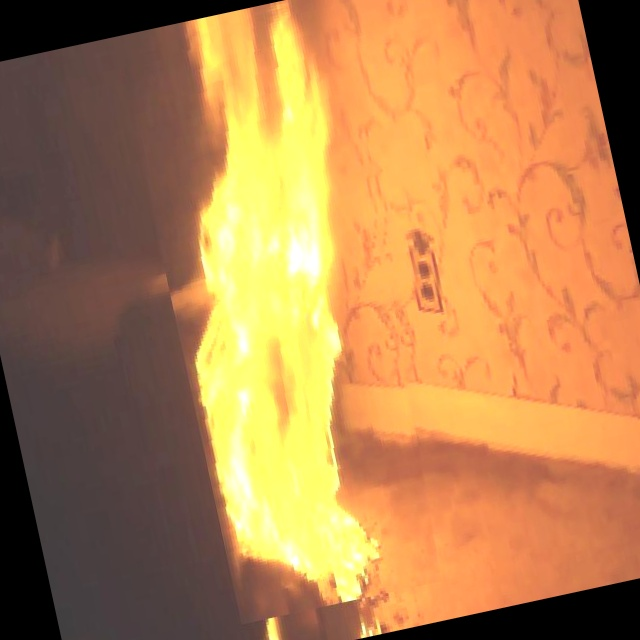fire: (104, 0, 455, 570)
